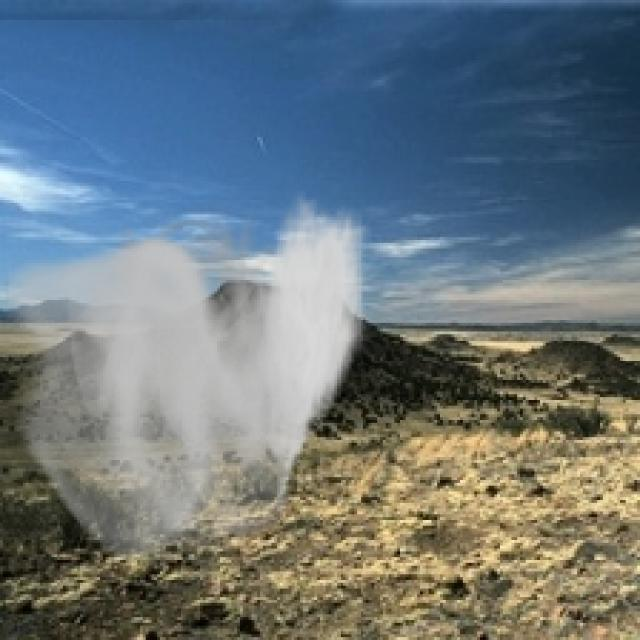Smoke: (6, 192, 372, 572)
